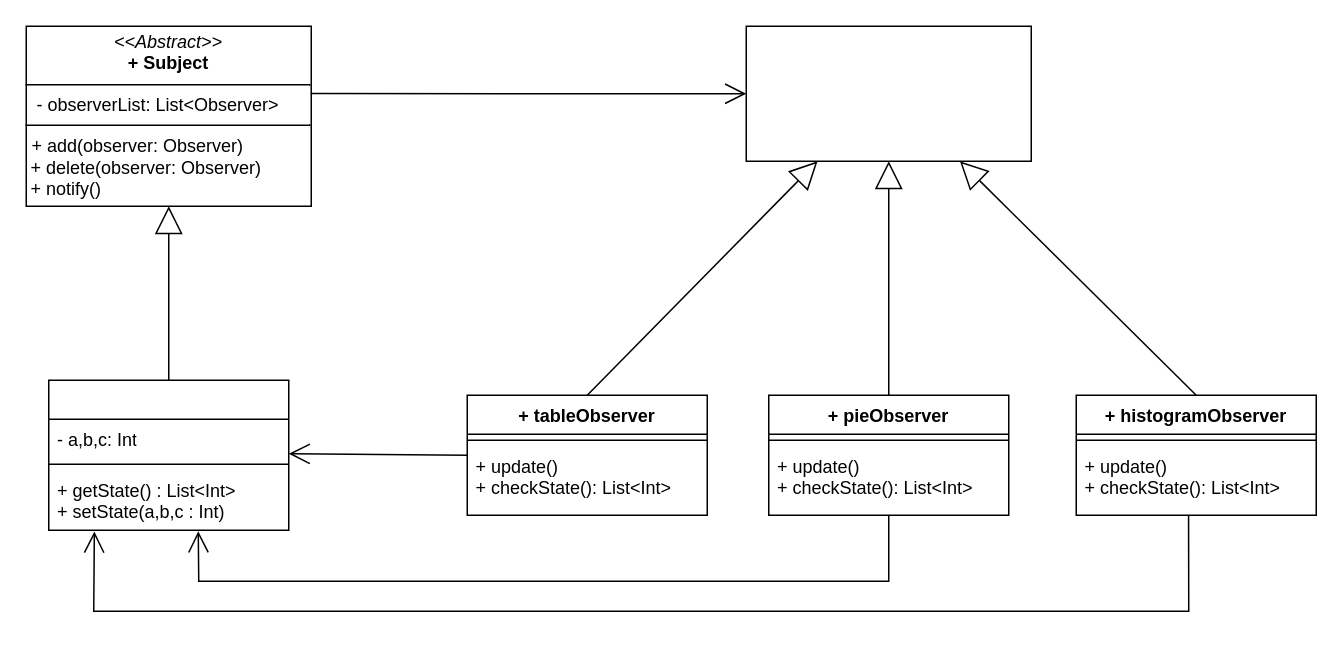
Image size: 1343x659. Some labels were removed from this diagram. Each missing label, with the box of its shape:
+ Data: (47, 379, 289, 530)
<<Abstract>> + Observer + update(): (745, 25, 1031, 161)
